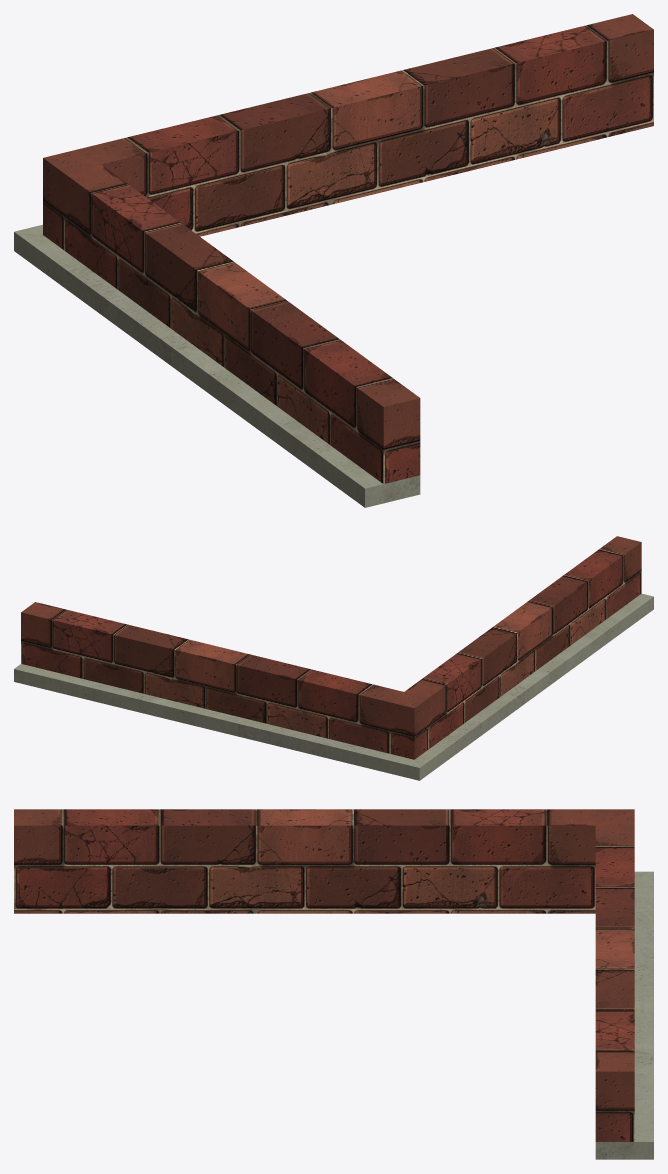
File: roof02_corner.fbx
3 renders of one model, top to bottom at view 1: azimuth 30°, elevation 25°; view 2: azimuth 150°, elevation 25°; view 3: azimuth 270°, elevation 25°, orthographic. The views are drawn at different scales.
Visible parts, largest first — view 1: roof02_corner; view 2: roof02_corner; view 3: roof02_corner.
Boxes of the visible parts, <box> form: roof02_corner: <box>14,14,653,507</box>; roof02_corner: <box>14,536,653,780</box>; roof02_corner: <box>14,809,653,1159</box>.
Bounding box in the file's own units: 330 × 50 × 330.
